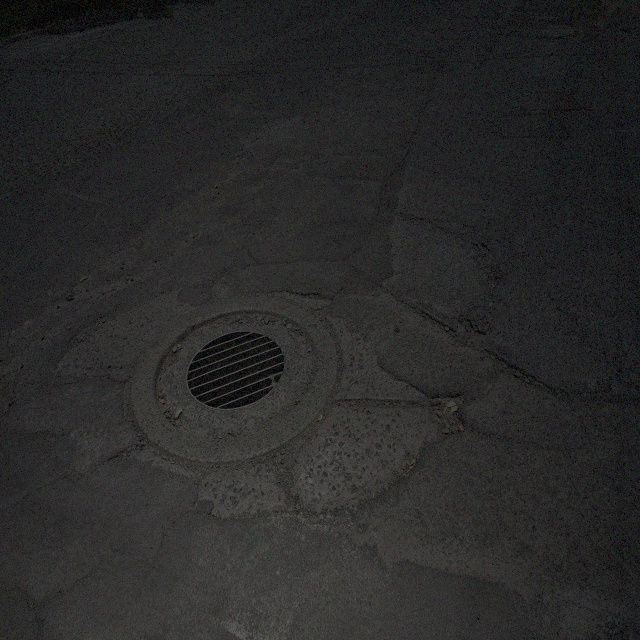pothole: (376, 349, 466, 447), (194, 464, 299, 519), (353, 517, 414, 569), (455, 313, 492, 356), (487, 268, 498, 292), (477, 240, 491, 255)
